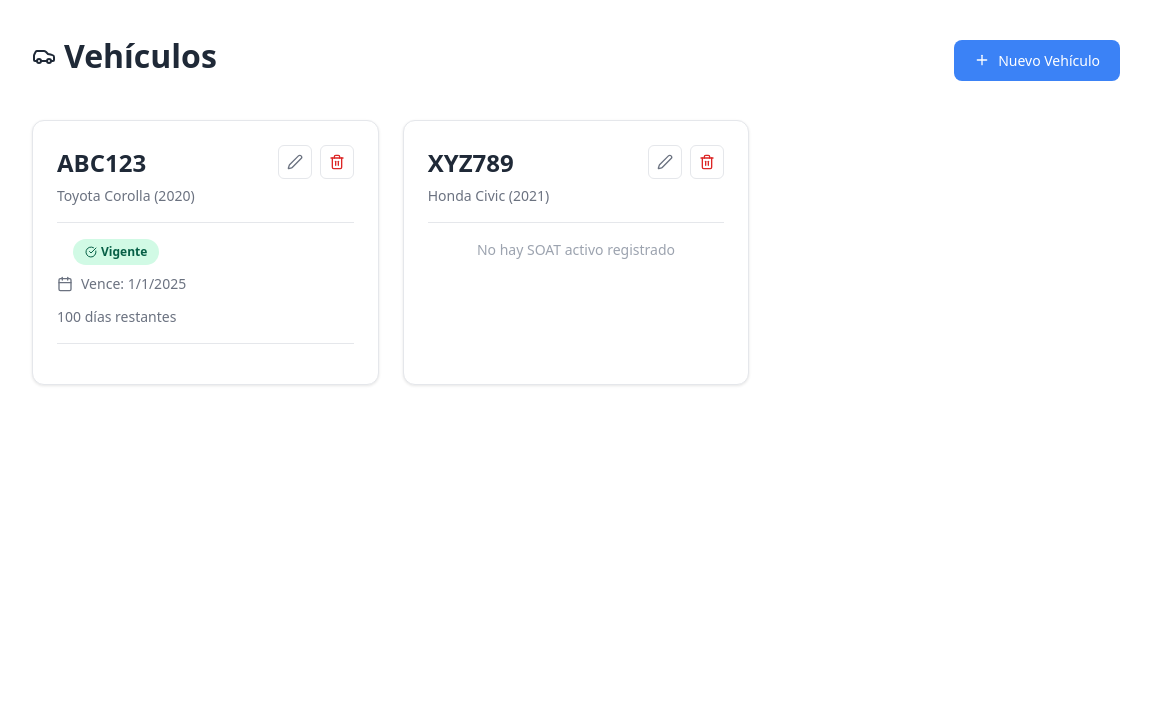
it: Vehicles › debe abrir modal para crear vehículo
Check: the heading "ABC123" is shown, box [57, 146, 146, 179]
// Buscar el botón en el header (no en el empty state)
Step 1. Click the button "Nuevo Vehículo" → (1037, 60), box [954, 40, 1120, 80]
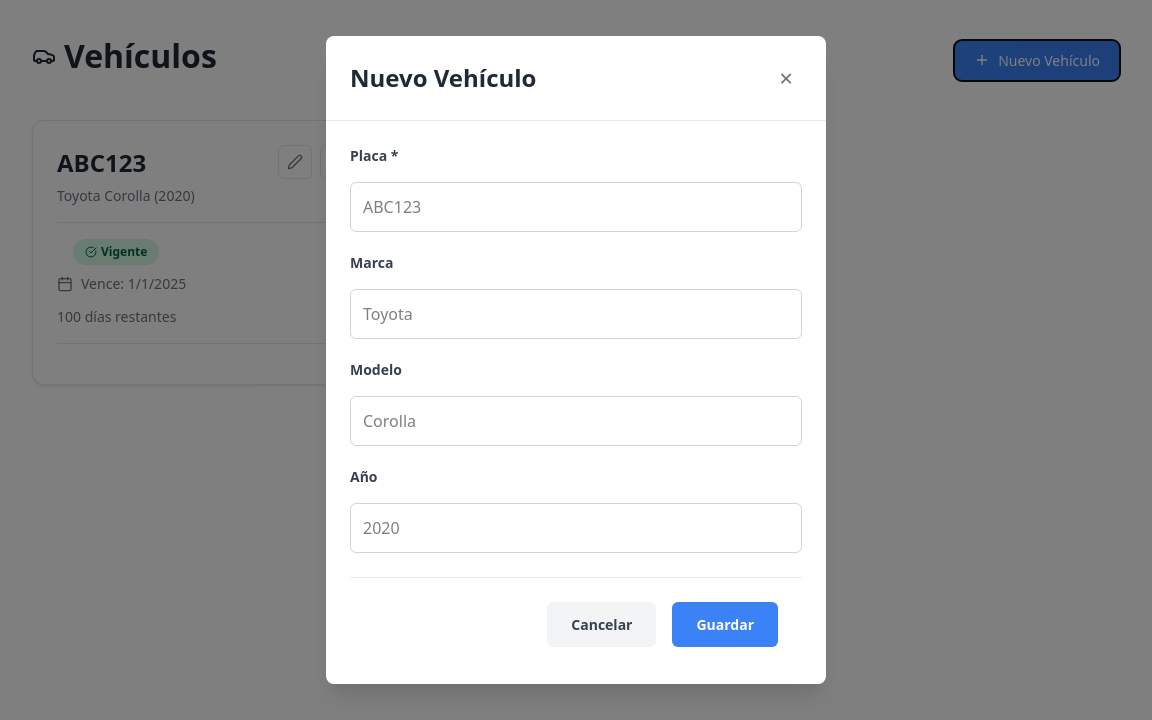
Check: the field labelled "Placa *" is shown, box [350, 182, 802, 232]
